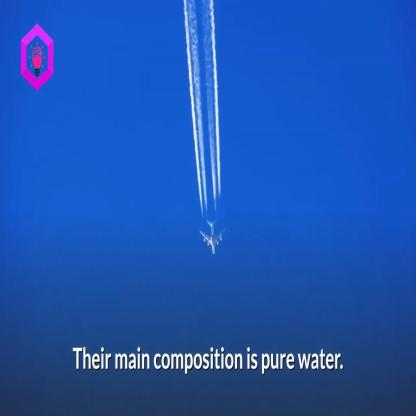plane: (197, 215, 231, 258)
